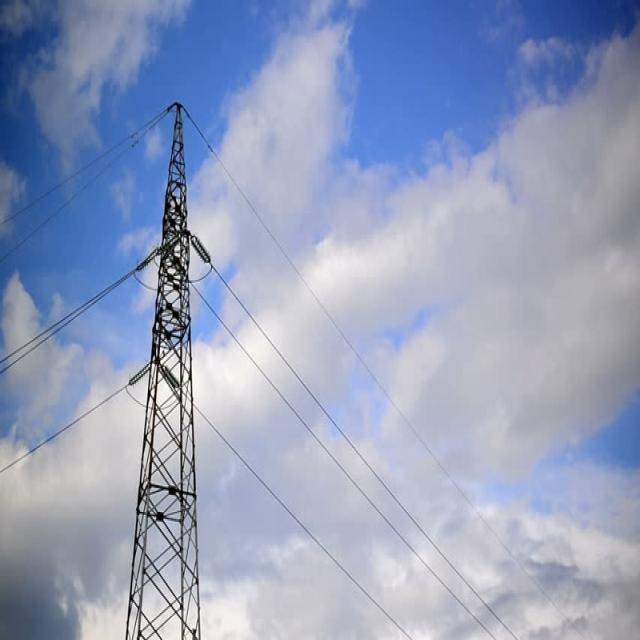non-critical vegetation: (100, 74, 232, 636)
